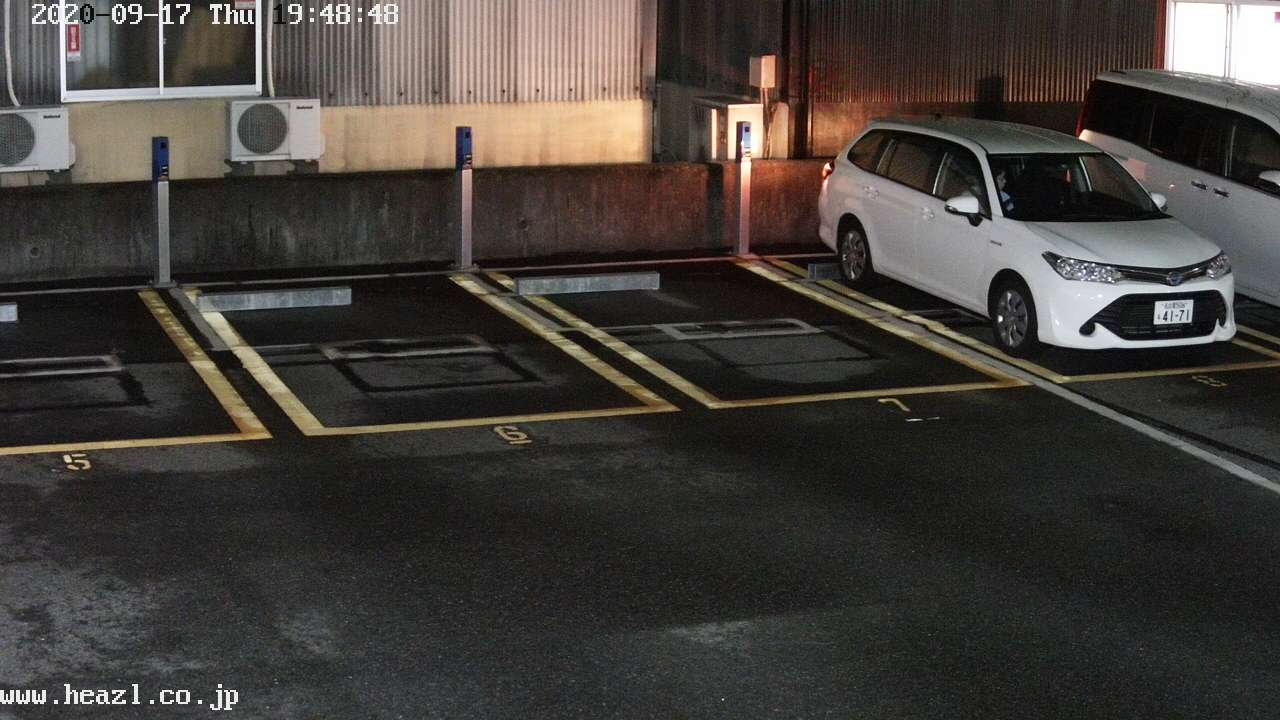number_plate: (1157, 298, 1194, 324)
